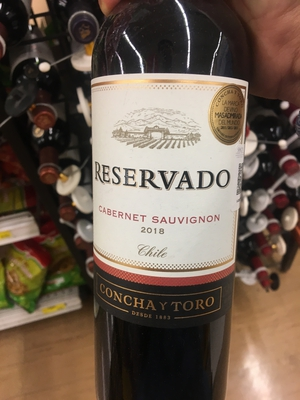reservado cabernet sauvignon: (90, 1, 250, 400)
